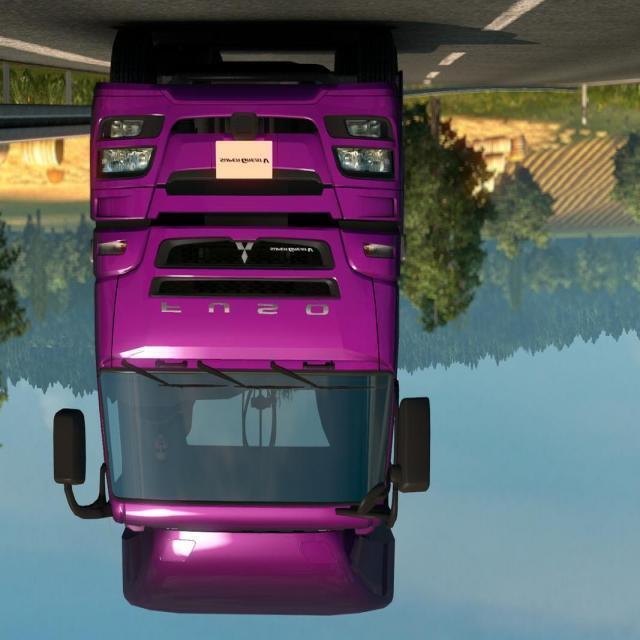Truck: (52, 41, 430, 620)
